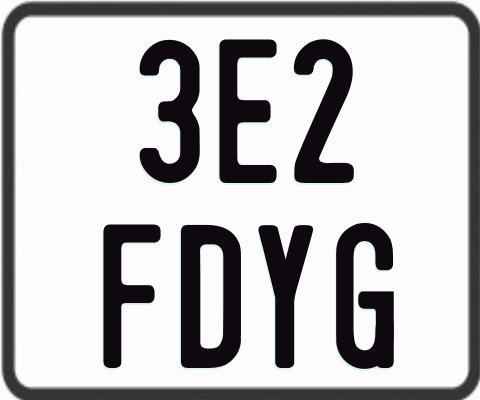2: (291, 36, 357, 185)
3: (138, 39, 203, 183)
D: (181, 222, 245, 368)
E: (217, 40, 277, 188)
F: (101, 224, 159, 367)
G: (334, 220, 397, 366)
Y: (258, 225, 314, 373)
